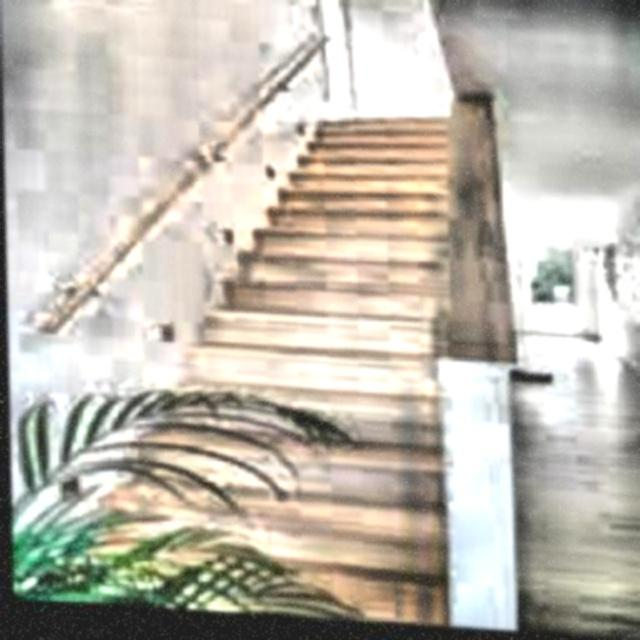stair: (43, 80, 580, 626)
